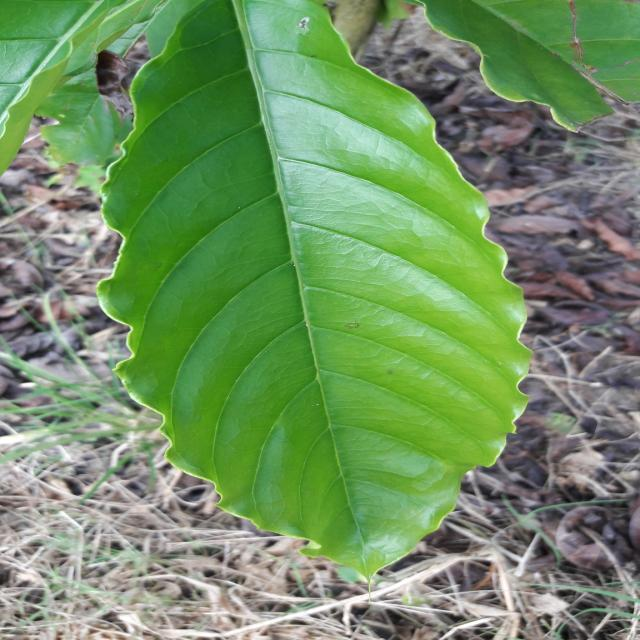Sanas: (96, 0, 532, 578)
